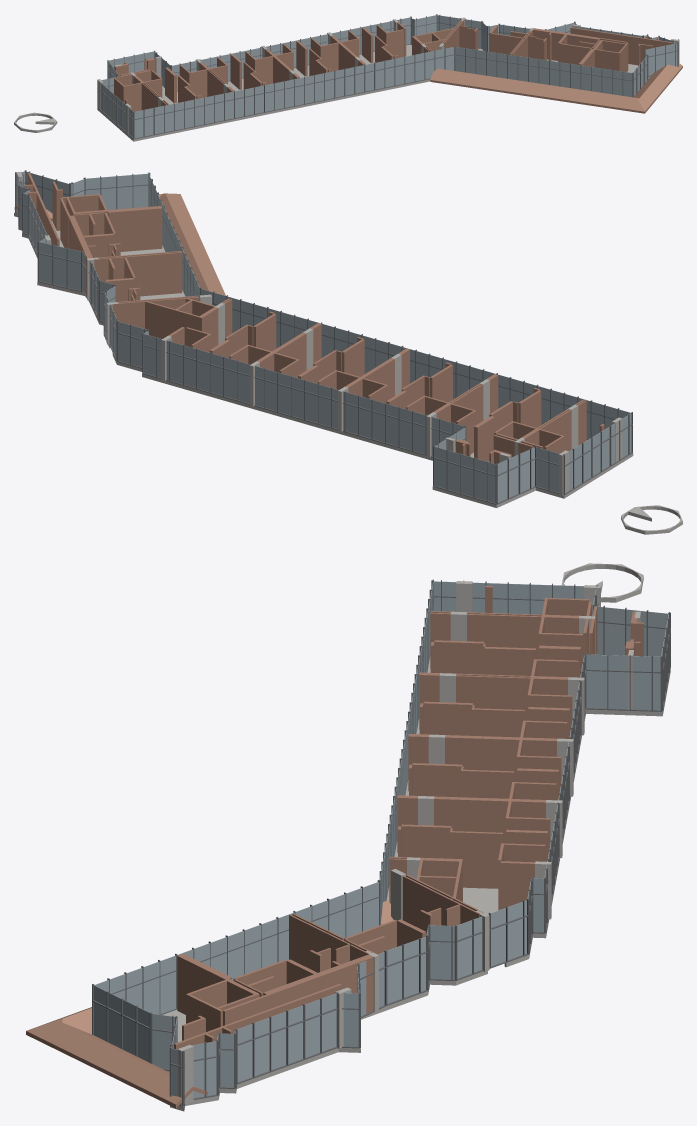
File: revit_nivel_5.glb
3 views of the same model, one above another, from view 1: azimuth 30°, elevation 25°; view 2: azimuth 150°, elevation 25°; view 3: azimuth 270°, elevation 25° (orthographic). The views are drawn at different scales.
Visible parts, largest first — view 1: Revit_PISO 6; view 2: Revit_PISO 6; view 3: Revit_PISO 6.
Boxes of the visible parts, box(x1,y1,x2,y2) form: Revit_PISO 6: box(14, 14, 682, 141); Revit_PISO 6: box(14, 170, 682, 534); Revit_PISO 6: box(26, 563, 670, 1111).
Size of the model in its own units: 63.78 by 3.25 by 31.89.
